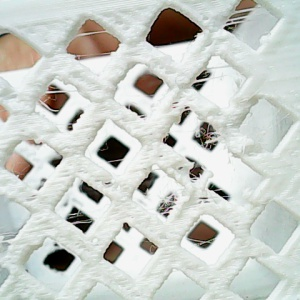3dpstringing: (37, 83, 88, 123), (218, 5, 264, 36), (191, 62, 239, 88), (58, 205, 96, 235), (150, 190, 183, 220), (194, 121, 228, 147), (174, 234, 220, 253), (64, 50, 122, 62), (61, 29, 111, 42), (211, 179, 240, 201), (164, 104, 190, 126), (140, 240, 161, 261), (103, 153, 136, 166), (188, 164, 208, 182), (136, 114, 149, 121)
3dpunderextrusion: (235, 131, 281, 166), (97, 172, 134, 197)
